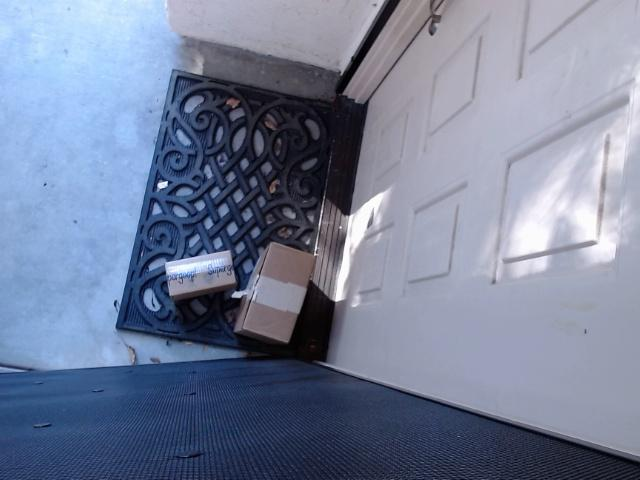box: (234, 242, 315, 345), (164, 250, 235, 302)
